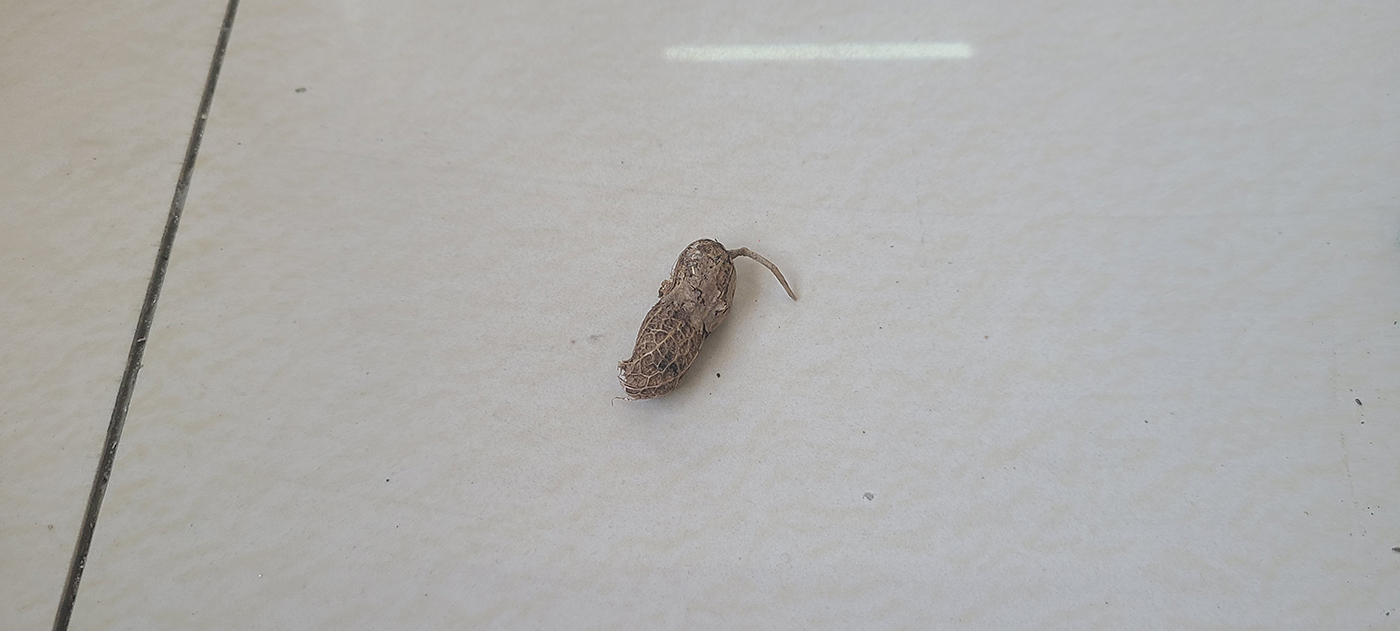l: (619, 237, 737, 402)
